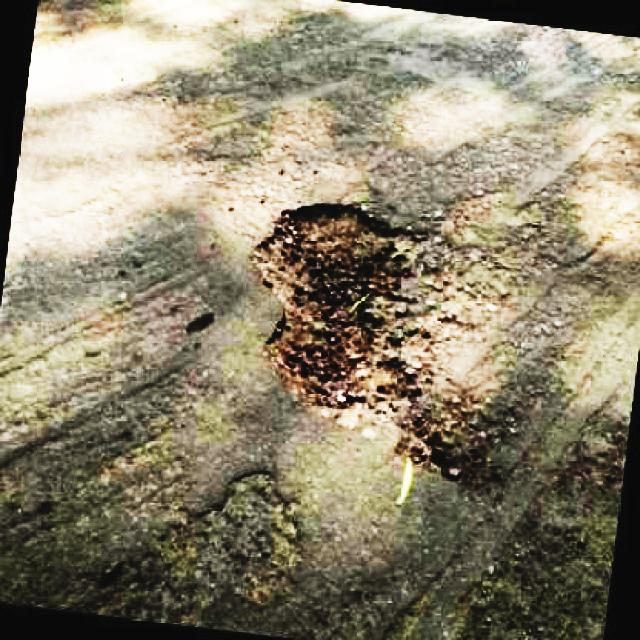pothole: (252, 198, 498, 488), (122, 465, 316, 629)
